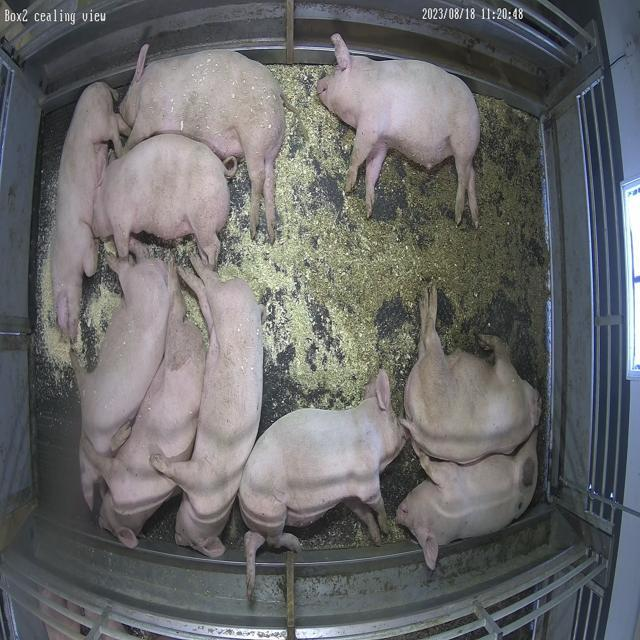Dirt: (377, 97, 550, 396)
Pig: (239, 371, 407, 600), (151, 259, 263, 559), (120, 45, 285, 242), (318, 38, 481, 226), (99, 264, 206, 548), (404, 287, 541, 464), (51, 82, 129, 338), (397, 432, 539, 570), (75, 257, 170, 456), (102, 134, 234, 266)
